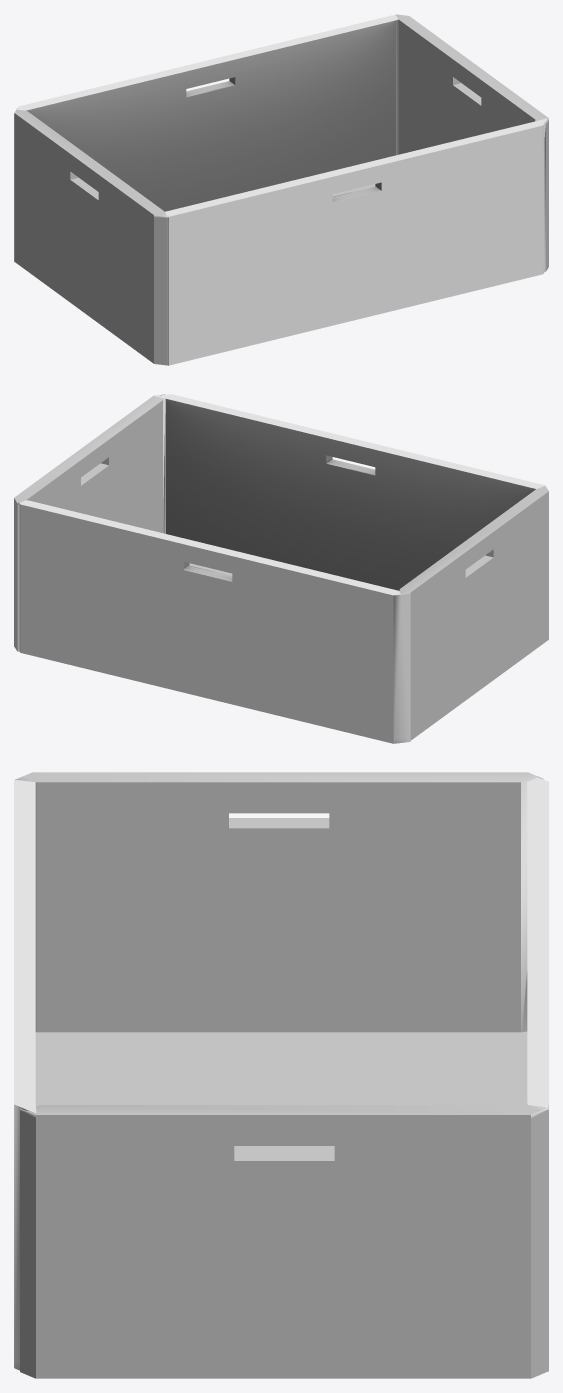
The model's file is PlasticBox.fbx.
The picture shows the model from 3 angles, top to bottom: view 1: azimuth 30°, elevation 25°; view 2: azimuth 150°, elevation 25°; view 3: azimuth 270°, elevation 25°; orthographic projection. The views are drawn at different scales.
Visible parts, largest first — view 1: Side, Side_2, Box_2, Box_1; view 2: Side_2, Side, Box_2, Box_1; view 3: Box_1, Box_2, Bottm, Side, Side_2.
Boxes of the visible parts, x1,y1,x2,y2 form: Side: (165, 118, 547, 365); Side_2: (14, 15, 398, 262); Box_2: (14, 108, 167, 365); Box_1: (395, 14, 548, 271); Side_2: (17, 500, 410, 743); Side: (154, 394, 544, 590); Box_2: (398, 485, 548, 740); Box_1: (14, 394, 165, 651); Box_1: (20, 1105, 548, 1378); Box_2: (15, 772, 543, 1032); Bottm: (35, 1031, 527, 1150); Side: (14, 780, 36, 1370); Side_2: (527, 777, 548, 1107).
Bounding box in the file's own units: 58.58 × 21.06 × 38.62.
